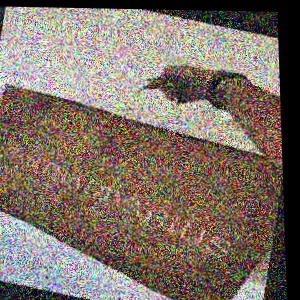stradivarius: (235, 175, 252, 300)
